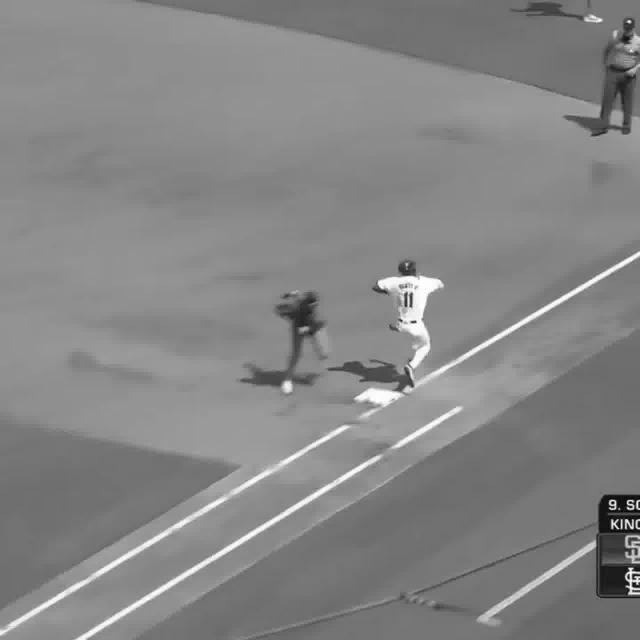base: (350, 387, 400, 406)
shoe: (403, 360, 414, 389), (280, 380, 295, 396)
